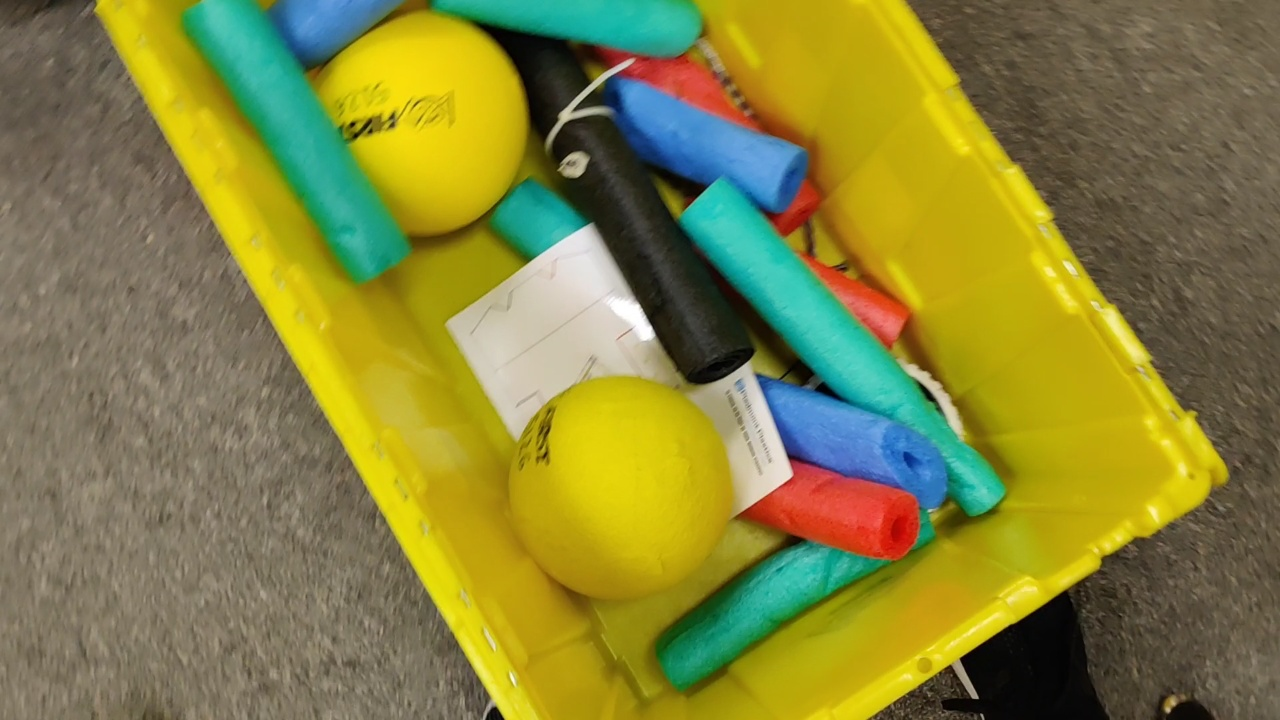Ball: (506, 374, 732, 598), (306, 13, 530, 237)
